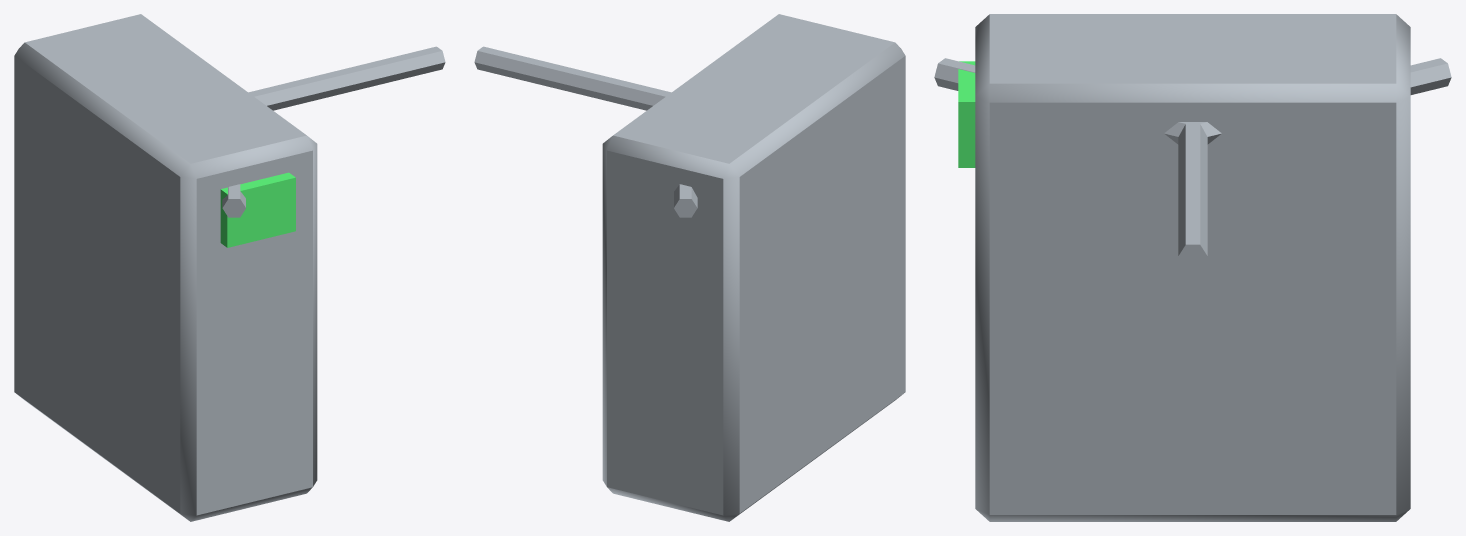
Rendered from turnstile.glb.
The picture shows the model from 3 angles, left to right: view 1: azimuth 30°, elevation 25°; view 2: azimuth 150°, elevation 25°; view 3: azimuth 270°, elevation 25°; orthographic projection. The views are drawn at different scales.
Parts seen in each view (by area): view 1: turnstile; view 2: turnstile; view 3: turnstile.
Part boxes in pixels (left/top/right/bottom): turnstile: left=14, top=14, right=445, bottom=521; turnstile: left=474, top=14, right=905, bottom=521; turnstile: left=934, top=14, right=1451, bottom=521.
Bounding box in the file's own units: 1 × 1 × 1.07.
